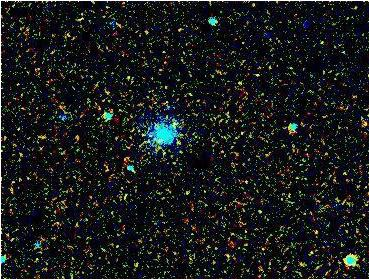star: (301, 214, 331, 244)
